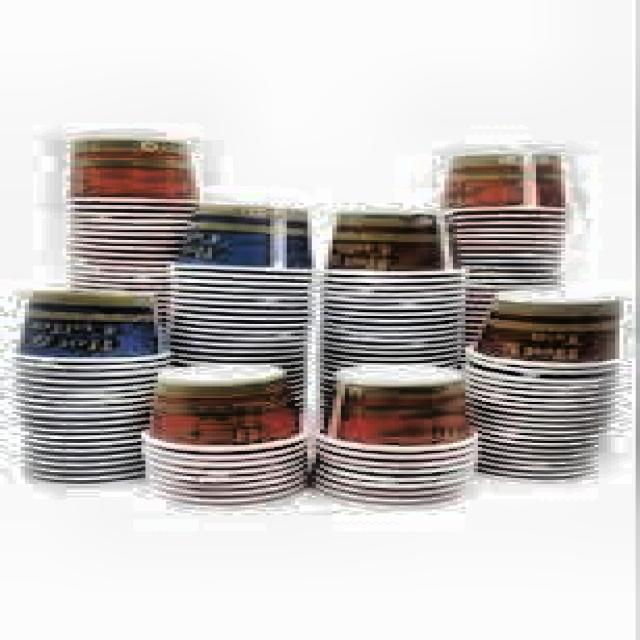Cup: (476, 286, 634, 482), (10, 286, 162, 482), (183, 200, 308, 428), (310, 355, 484, 511), (139, 361, 310, 508), (333, 207, 465, 396), (63, 136, 208, 298), (430, 152, 568, 299)
